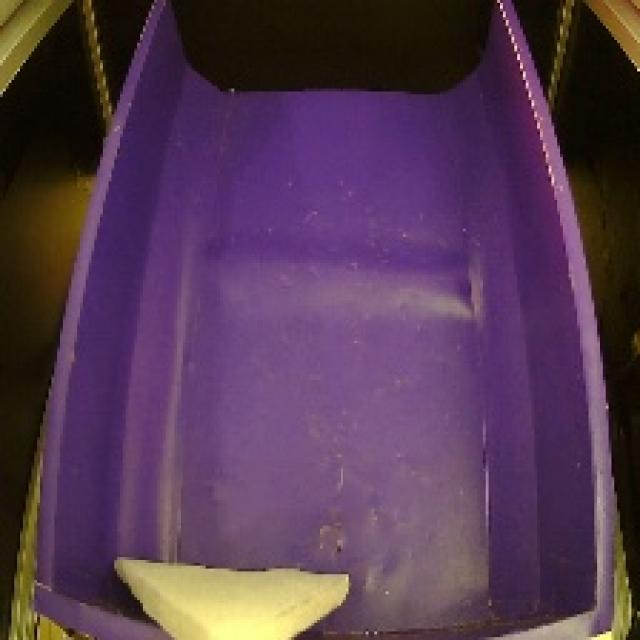china: (100, 542, 361, 640)
